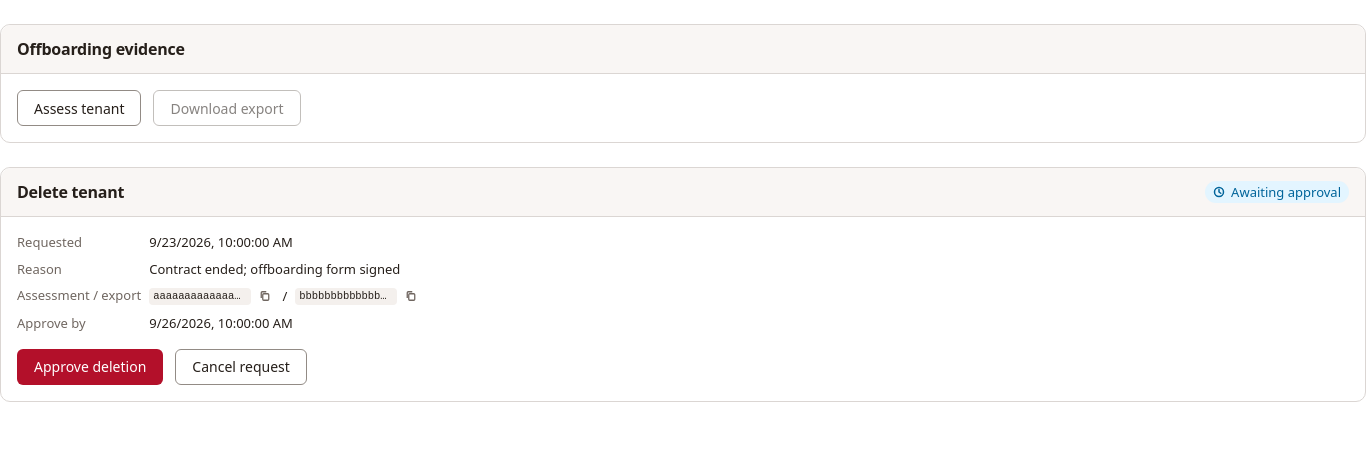
it: TenantDeletionTab › lets a second administrator approve, and shows the server refusal in its own words
What coordinates should you click on to do the following:
click the button "Approve deletion"
I would click on:
 (90, 367)
Its box is [17, 349, 163, 385].
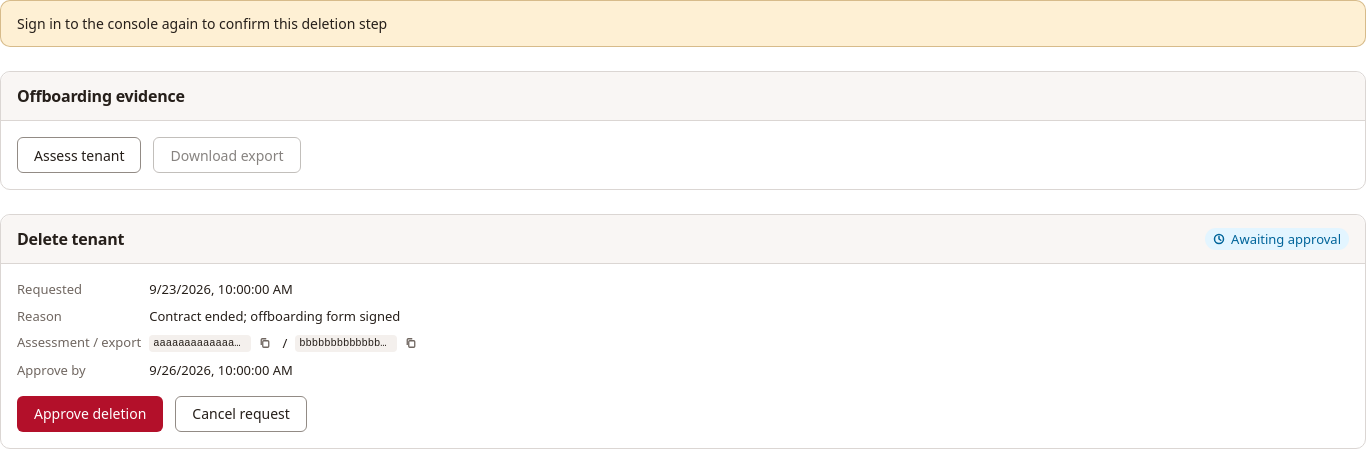
Check: the text "Sign in to the console again to confirm this deletion step" is shown, box [17, 14, 387, 33]
